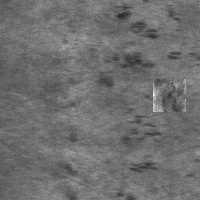patches: (153, 79, 186, 112)
rolled-in_scale: (94, 4, 168, 88), (117, 97, 164, 198)
